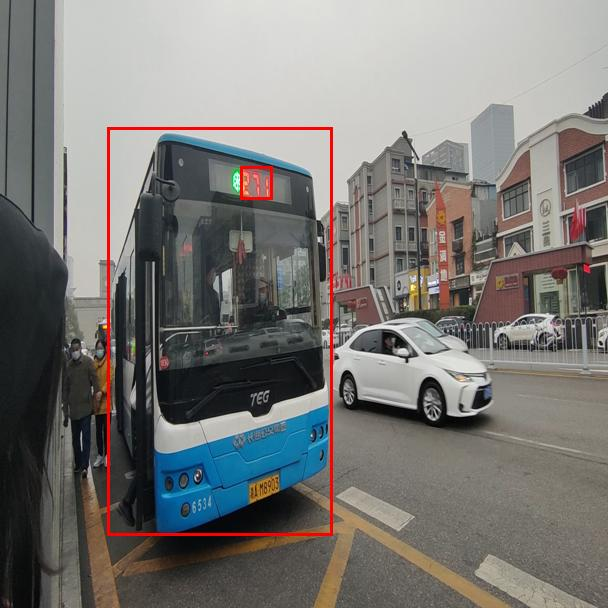bus: (107, 127, 332, 535)
screen: (240, 166, 272, 199)
